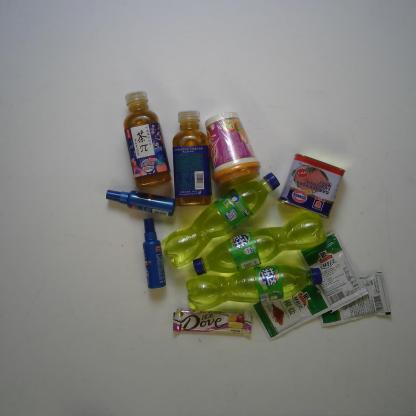Canned Food: (277, 153, 345, 220)
Chocolate: (172, 306, 254, 340)
Drink: (160, 172, 281, 269), (193, 211, 328, 278), (186, 264, 323, 310), (119, 90, 172, 188), (172, 110, 212, 208)
Instant Drink: (203, 109, 261, 189)
Personal Hygiene: (104, 189, 176, 218), (141, 215, 167, 290)
Seasoner: (297, 229, 368, 312), (252, 280, 331, 341), (320, 268, 393, 332)
